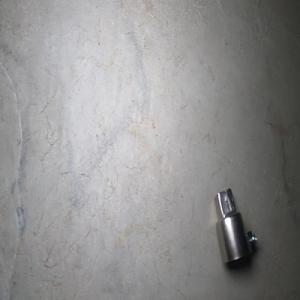MetalPart: (213, 186, 258, 264)
